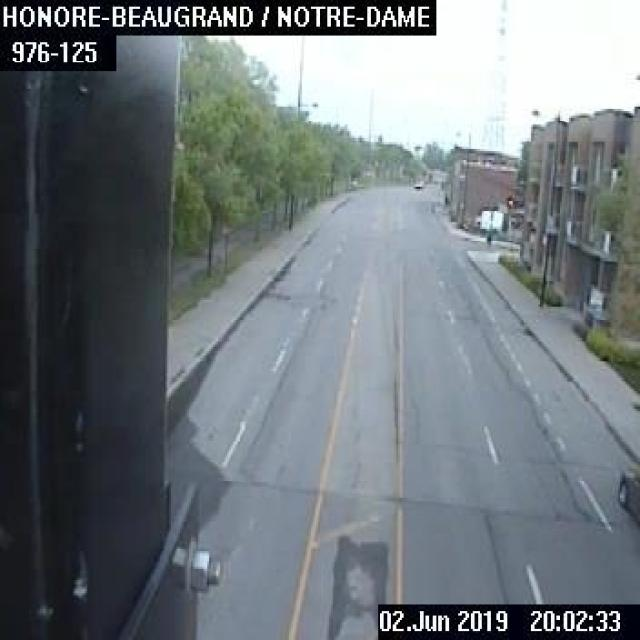pedestrian: (483, 228, 491, 248)
vehicle: (613, 464, 638, 526), (411, 180, 420, 189)
